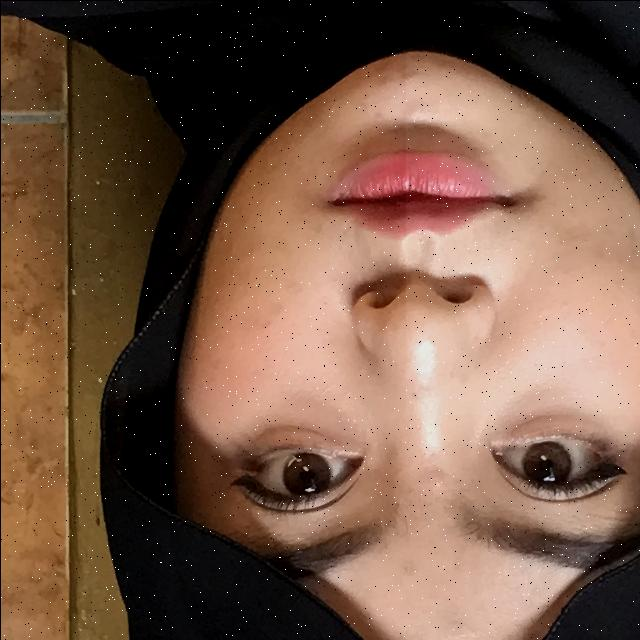ibu: (405, 0, 640, 414)
